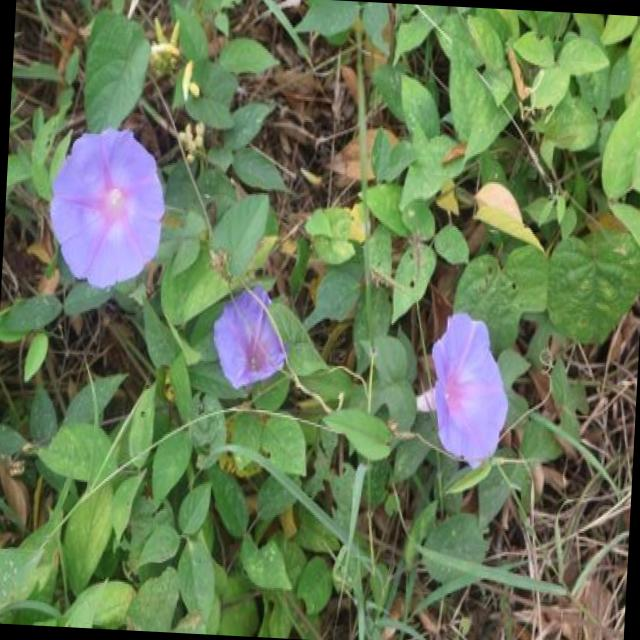ipomoea: (42, 120, 172, 297), (411, 307, 516, 475), (206, 278, 294, 398)
